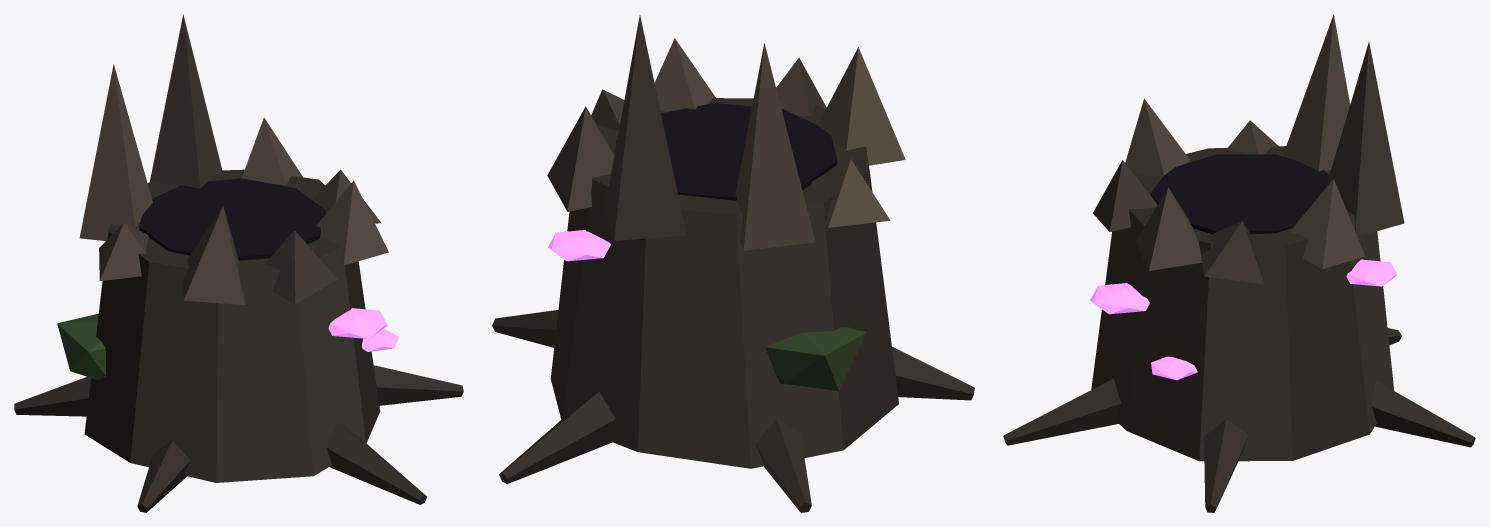
File: hollow_stump.glb
3 views of the same model, side by side, from view 1: azimuth 30°, elevation 25°; view 2: azimuth 150°, elevation 25°; view 3: azimuth 270°, elevation 25° (orthographic). The views are drawn at different scales.
Parts seen in each view (by area): view 1: HollowStump; view 2: HollowStump; view 3: HollowStump.
Boxes of the visible parts, x1,y1,x2,y2 form: HollowStump: (14,14,463,512); HollowStump: (492,15,974,512); HollowStump: (1003,14,1475,512).
Bounding box in the file's own units: 1.06 × 1.04 × 1.18.
